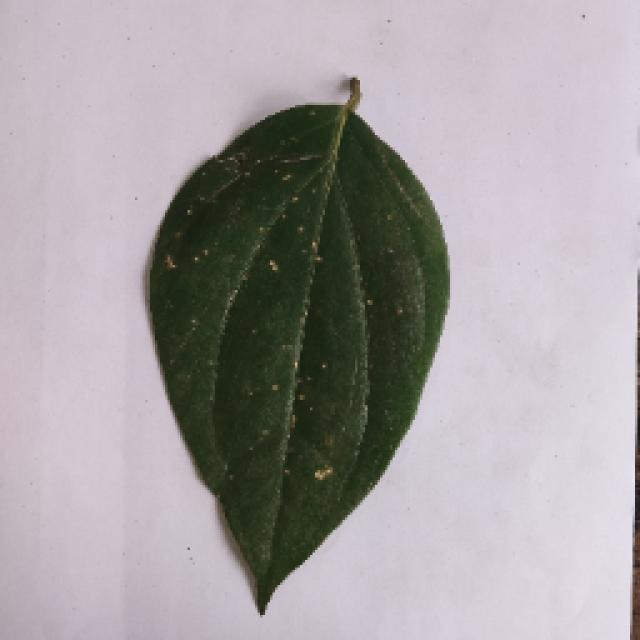pollu-disease: (145, 87, 445, 615)
